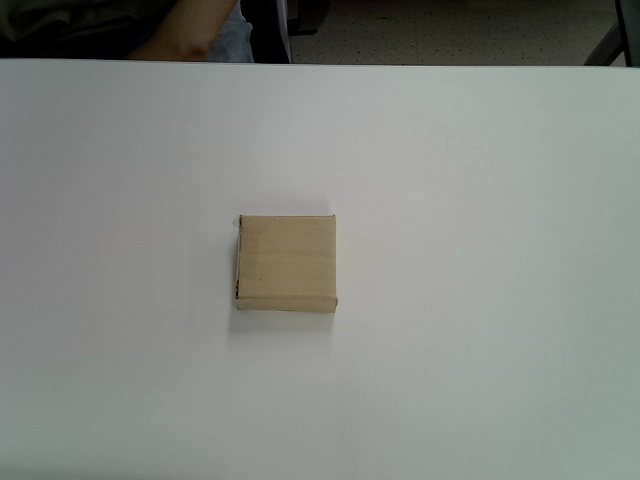normal: (233, 212, 340, 314)
